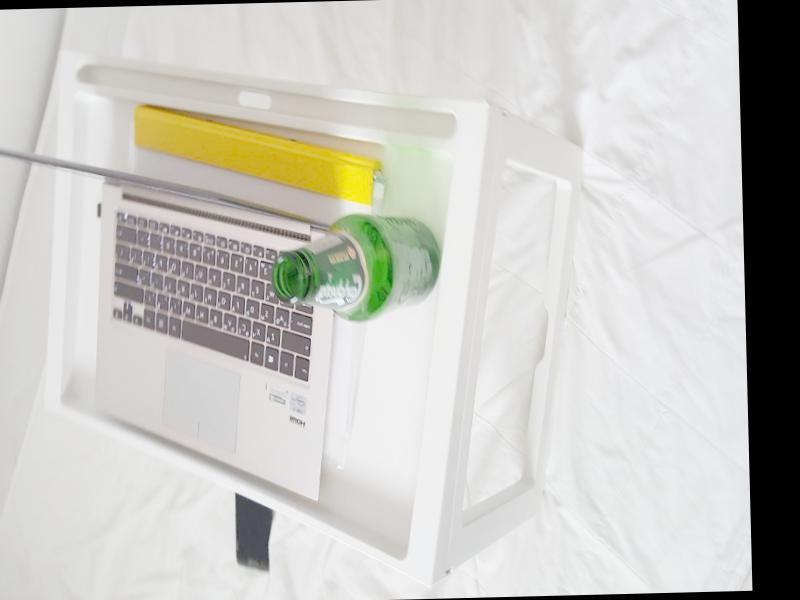Beer: (270, 212, 442, 321)
